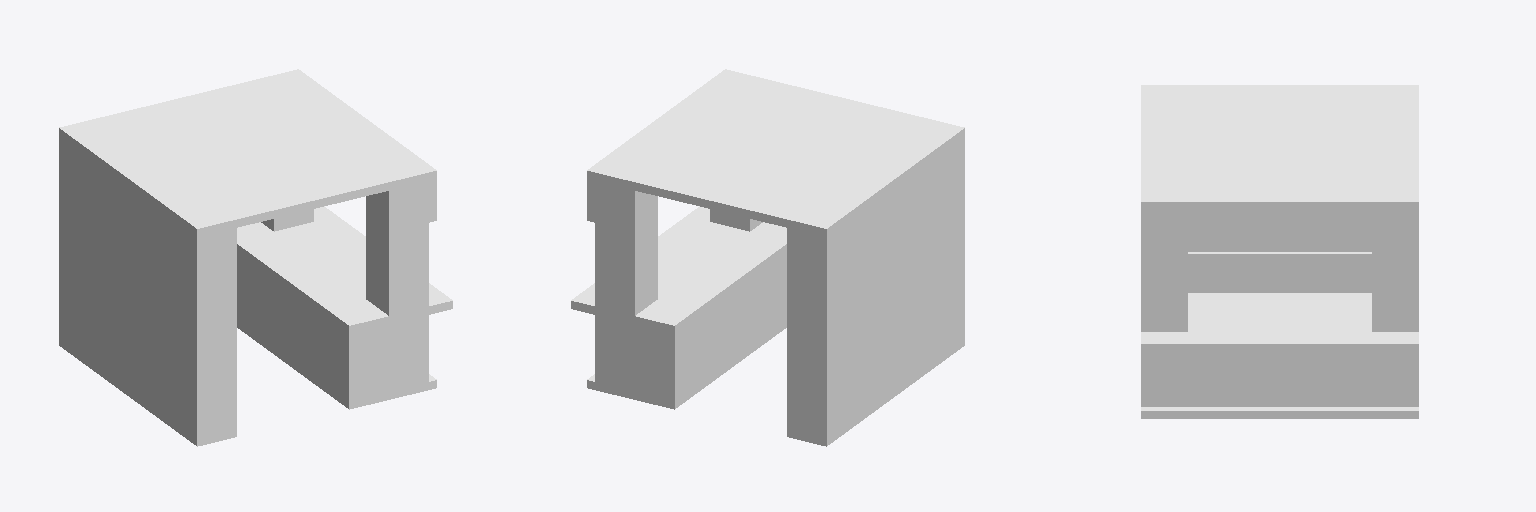
File: MarketStall1.obj
3 renders of one model, left to right at view 1: azimuth 30°, elevation 25°; view 2: azimuth 150°, elevation 25°; view 3: azimuth 270°, elevation 25°, orthographic.
Size of the model in its own units: 32 by 26 by 30.